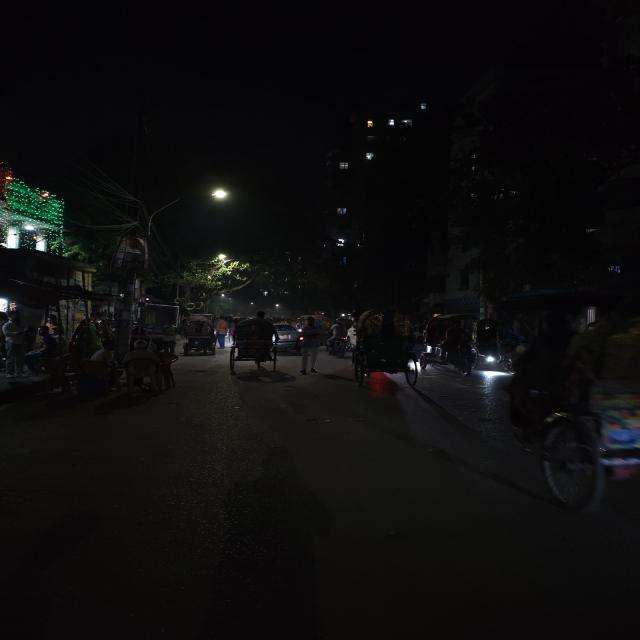car: (273, 317, 303, 353)
motorcycle: (324, 316, 354, 358)
pedestrian: (1, 309, 33, 378), (296, 314, 324, 374)
rickshaw: (491, 286, 640, 516), (349, 308, 427, 392), (430, 309, 482, 380), (227, 312, 280, 372), (180, 316, 218, 356)
